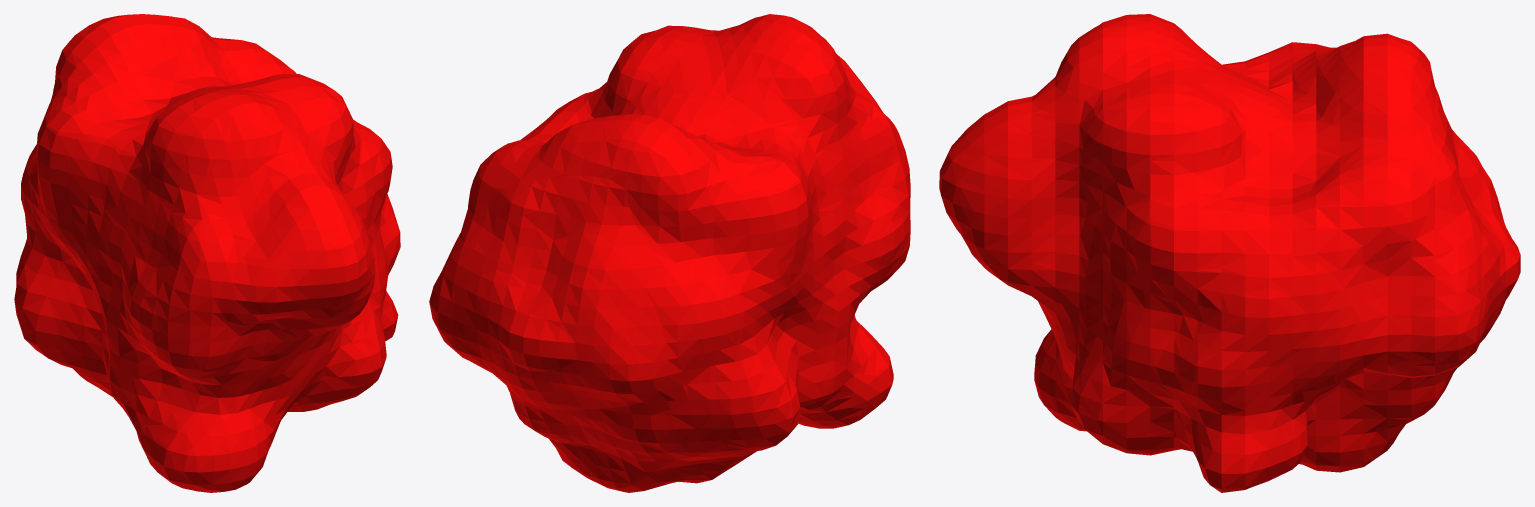
Rendered from trpB_coarse.dae.
3 views of the same model, side by side, from view 1: azimuth 30°, elevation 25°; view 2: azimuth 150°, elevation 25°; view 3: azimuth 270°, elevation 25° (orthographic). The views are drawn at different scales.
Visible parts, largest first — view 1: trpB; view 2: trpB; view 3: trpB.
Part boxes in pixels (bbox=[...]): trpB: bbox=[14, 14, 400, 492]; trpB: bbox=[429, 14, 910, 492]; trpB: bbox=[939, 14, 1520, 492].
Size of the model in its own units: 47.6 by 52.7 by 66.83.
